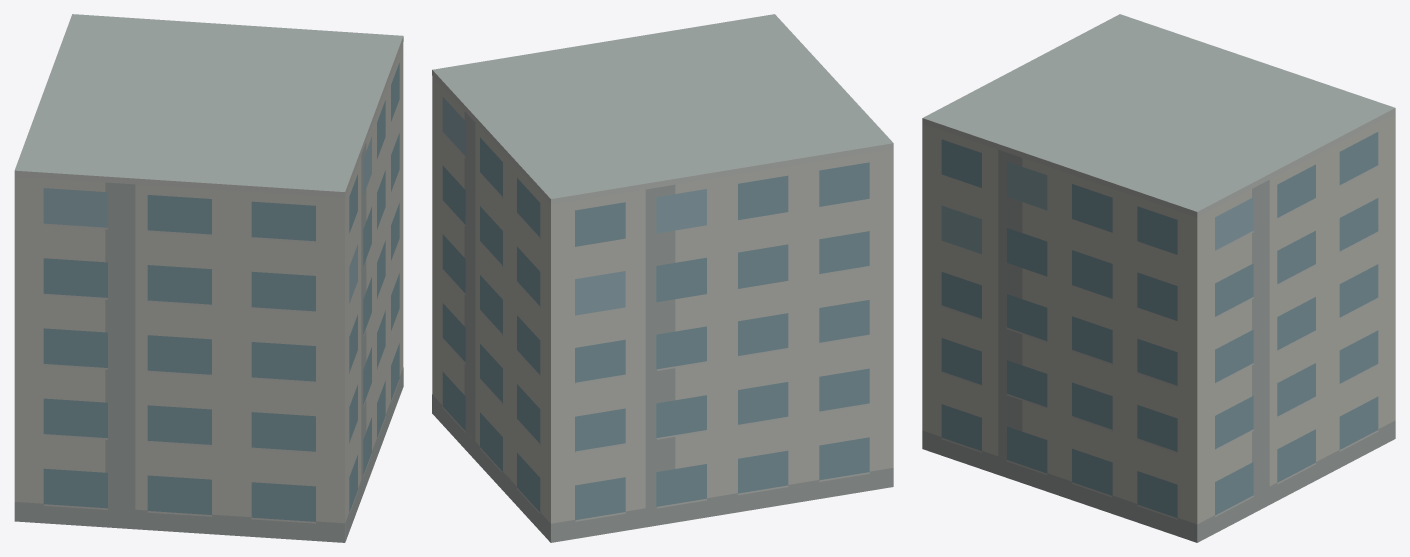
Rendered from survey-upis-32894142.glb.
The picture shows the model from 3 angles, left to right: view 1: azimuth 30°, elevation 25°; view 2: azimuth 150°, elevation 25°; view 3: azimuth 270°, elevation 25°; orthographic projection. The views are drawn at different scales.
Parts seen in each view (by area): view 1: survey-upis-32894142.tmp; view 2: survey-upis-32894142.tmp; view 3: survey-upis-32894142.tmp.
Part boxes in pixels (x1,y1,x2,y2): survey-upis-32894142.tmp: (14, 14, 403, 542); survey-upis-32894142.tmp: (432, 14, 893, 542); survey-upis-32894142.tmp: (922, 14, 1395, 542).
Bounding box in the file's own units: 18.35 × 14.3 × 18.54.
